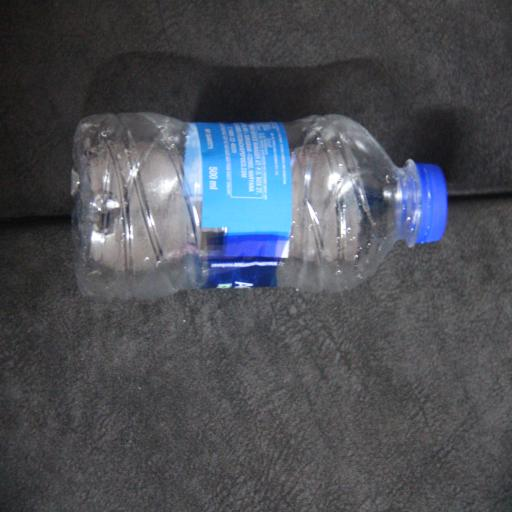Aquafina: (76, 97, 196, 512)
